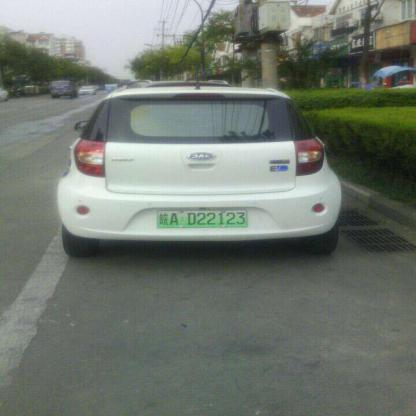lp: (158, 210, 246, 226)
